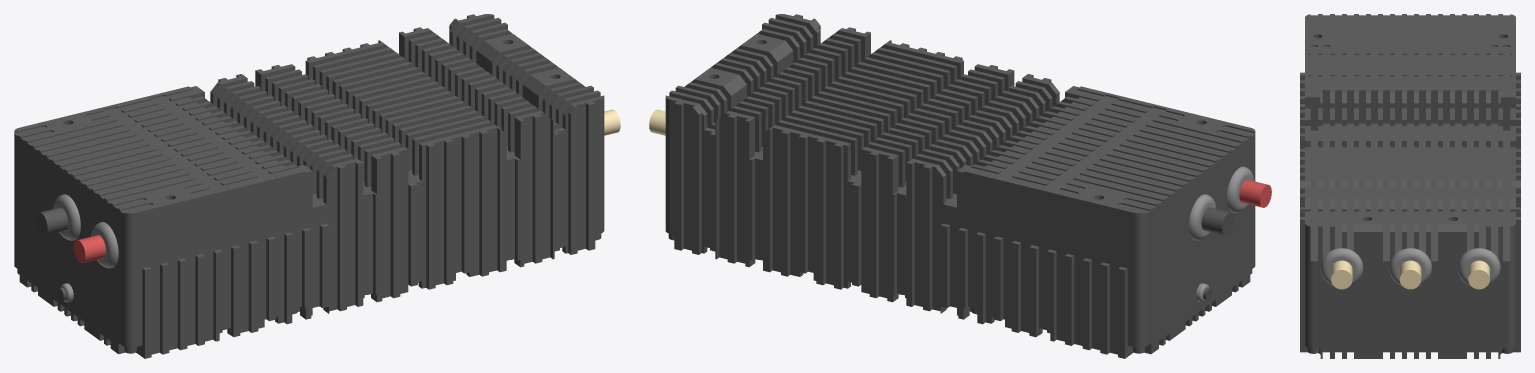
3 renders of one model, left to right at view 1: azimuth 30°, elevation 25°; view 2: azimuth 150°, elevation 25°; view 3: azimuth 270°, elevation 25°, orthographic. The views are drawn at different scales.
Parts seen in each view (by area): view 1: Body3; view 2: Body3; view 3: Body3.
Boxes of the visible parts, box(x1,y1,x2,y2) form: Body3: box(14, 14, 620, 358); Body3: box(649, 14, 1271, 358); Body3: box(1300, 14, 1520, 358).
Bounding box in the file's own units: 0.196 × 0.051 × 0.0772.
